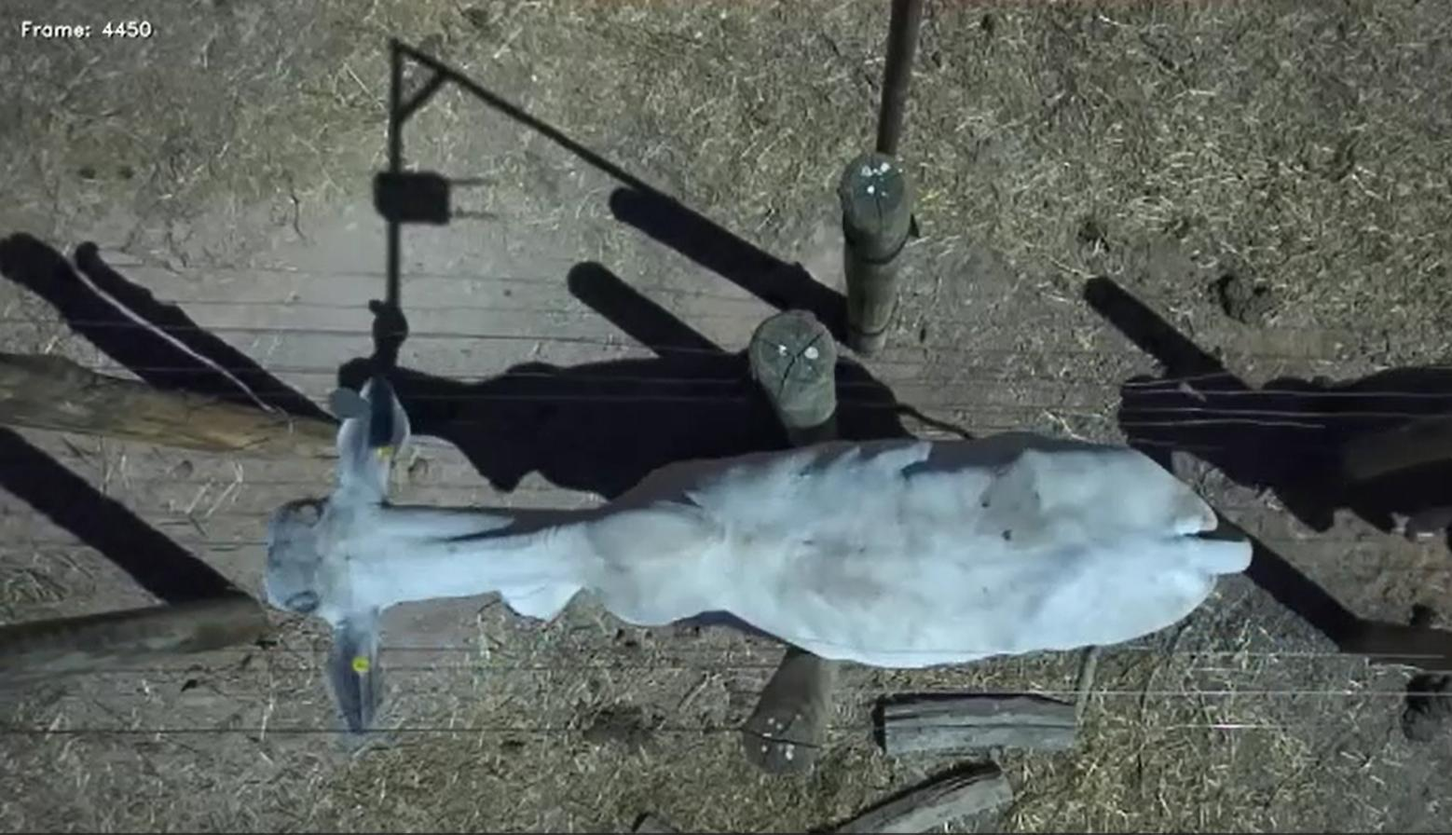cattle: (254, 366, 1262, 743)
